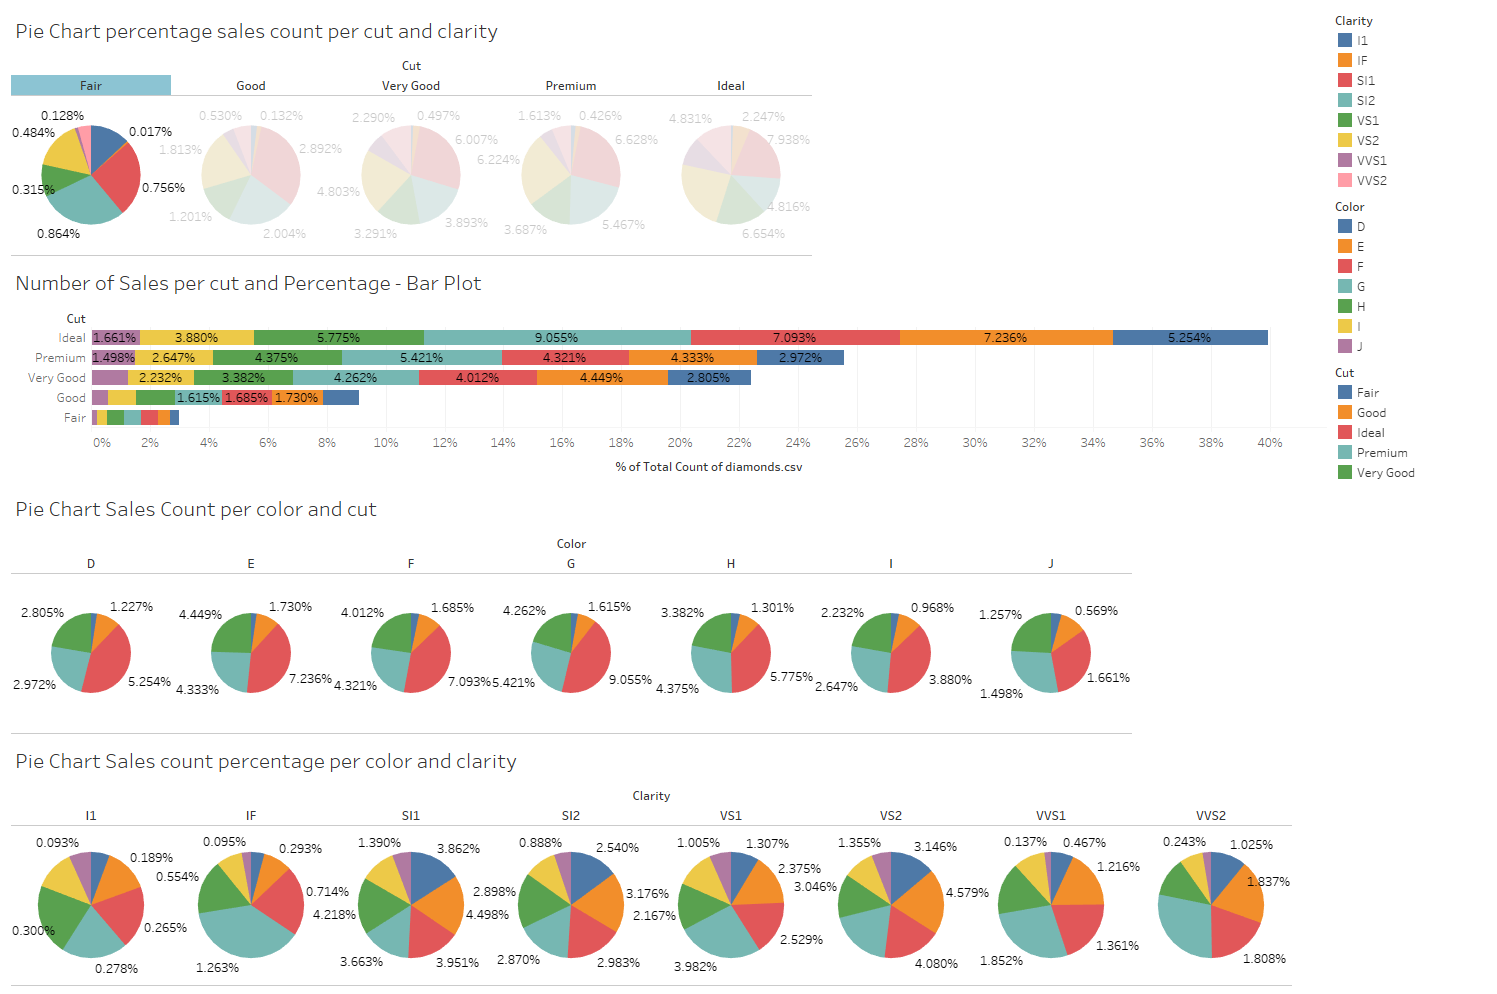

This screenshot's page, from the dashboard's own definition file:
{"tool":"tableau","page":{"name":"Q18","canvas":[1500,1100],"ordinal":0},"visuals":[{"type":"worksheet","title":"Q4","mark":"Pie","cols":["cut"],"box":[8,8,1324,336]},{"type":"legend","title":"Q4","param":"[federated.05iga570epkh2y10srztj0q9jn23].[none:clarity:nk]","box":[1332,8,160,186]},{"type":"legend","title":"Q8","param":"[federated.05iga570epkh2y10srztj0q9jn23].[none:color:nk]","box":[1332,194,160,46]},{"type":"legend","title":"Q3","param":"[federated.05iga570epkh2y10srztj0q9jn23].[none:cut:nk]","box":[1332,240,160,126]},{"type":"worksheet","title":"Q8","mark":"Automatic","rows":["cut"],"box":[8,344,1324,146]},{"type":"worksheet","title":"Q3","mark":"Pie","cols":["color"],"box":[8,490,1324,252]},{"type":"worksheet","title":"Q5","mark":"Pie","cols":["clarity"],"box":[8,742,1324,252]}]}

Visuals, with their boxes in screenshot pixels (x1, y1, x2, y2):
"Q4" worksheet (Pie marks): select_region(210, 50, 1348, 339)
"Q4" legend: select_region(1348, 50, 1485, 210)
"Q8" legend: select_region(1348, 210, 1485, 249)
"Q3" legend: select_region(1348, 249, 1485, 358)
"Q8" worksheet: select_region(210, 339, 1348, 464)
"Q3" worksheet (Pie marks): select_region(210, 464, 1348, 681)
"Q5" worksheet (Pie marks): select_region(210, 681, 1348, 897)
